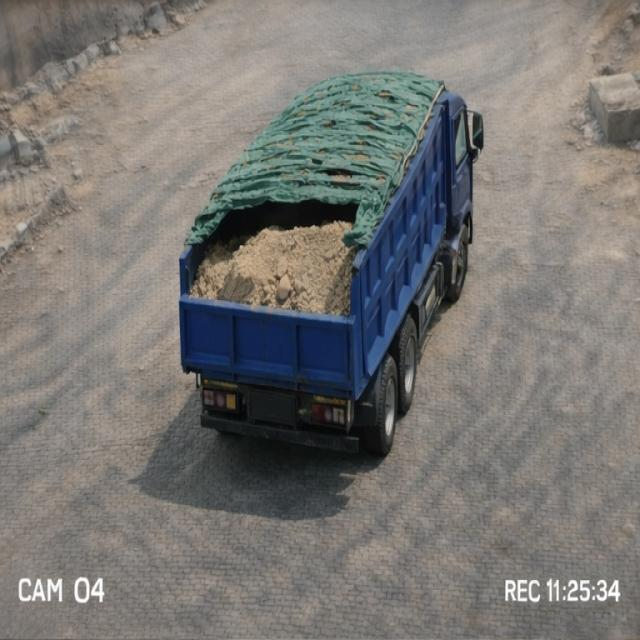trailer: (177, 83, 453, 311)
truck: (170, 63, 498, 450)
